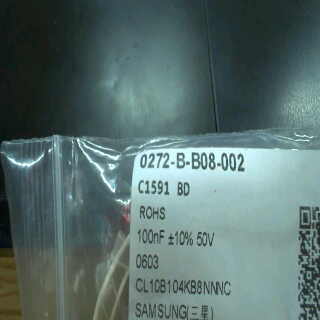100nF: (135, 225, 166, 247)
